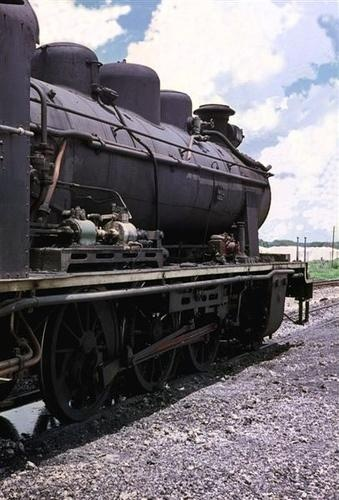train: (1, 1, 316, 470)
